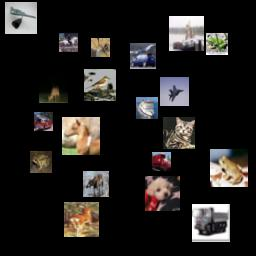airplane: (5, 2, 37, 34), (160, 77, 189, 106)
automobile: (130, 43, 156, 69)
bird: (84, 69, 116, 101)
cat: (163, 117, 195, 149)
deer: (64, 202, 99, 237), (39, 74, 68, 103), (83, 171, 109, 197), (91, 38, 110, 57)
dog: (145, 176, 180, 211)
frog: (210, 149, 248, 187), (30, 151, 52, 173), (206, 33, 228, 55)
ship: (169, 16, 204, 51), (136, 97, 158, 119)
truck: (192, 204, 230, 242), (152, 152, 171, 171), (34, 112, 53, 131)
